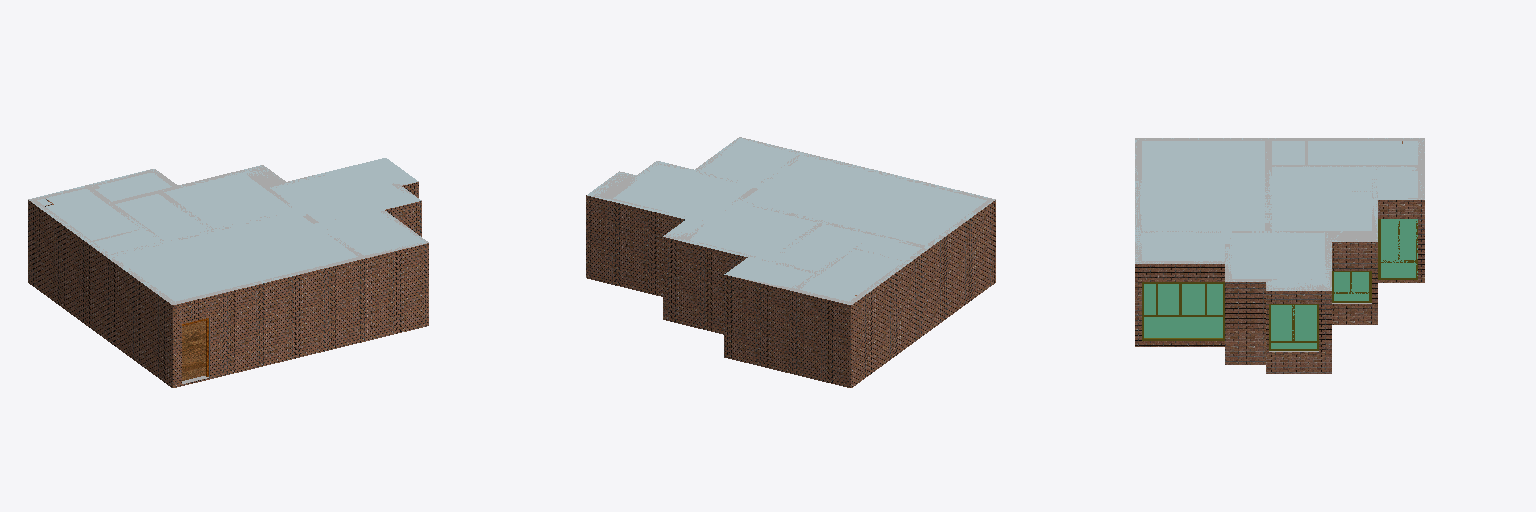
3 renders of one model, left to right at view 1: azimuth 30°, elevation 25°; view 2: azimuth 150°, elevation 25°; view 3: azimuth 270°, elevation 25°, orthographic.
Parts seen in each view (by area): view 1: wall, roof, floor_mesh; view 2: wall, roof; view 3: roof, wall, glass_mesh, metal1_mesh.
Part boxes in pixels (left/top/right/bottom): wall: left=28, top=162, right=428, bottom=387; roof: left=30, top=158, right=427, bottom=303; floor_mesh: left=182, top=321, right=205, bottom=380; wall: left=586, top=137, right=995, bottom=387; roof: left=587, top=138, right=994, bottom=304; roof: left=1135, top=138, right=1424, bottom=290; wall: left=1135, top=138, right=1424, bottom=373; glass_mesh: left=1144, top=219, right=1417, bottom=348; metal1_mesh: left=1142, top=219, right=1417, bottom=350.
Bounding box in the file's own units: 1080 × 275 × 870.
13 materials, 5 textured.